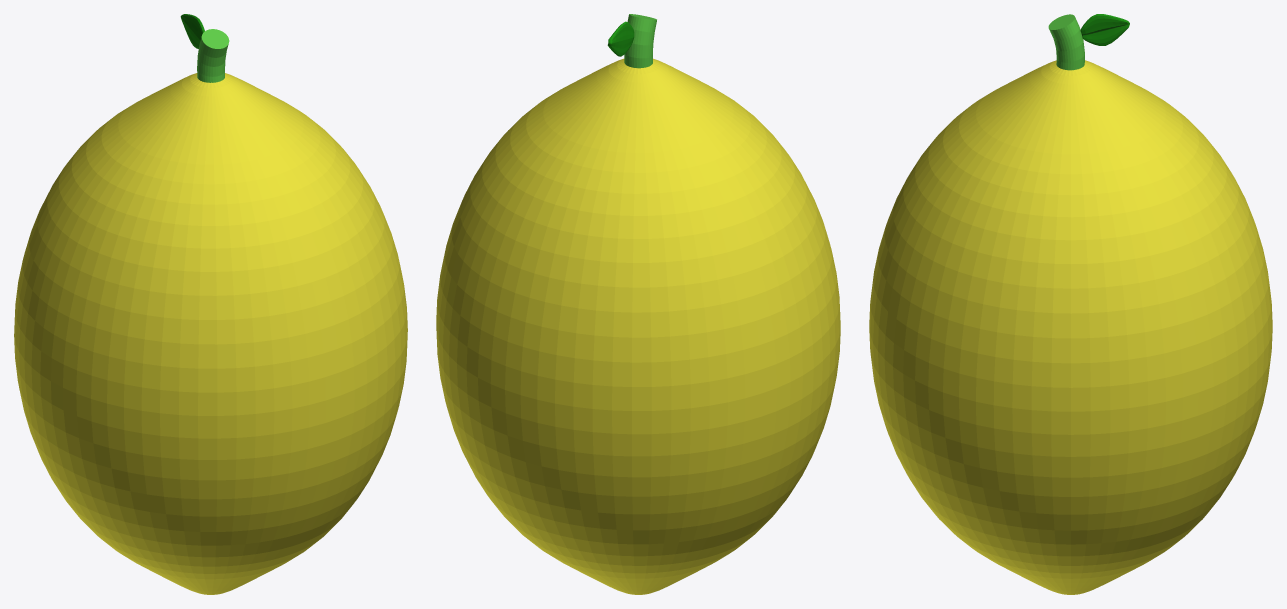
The model's file is Lemon_subdivided.fbx.
The picture shows the model from 3 angles, left to right: view 1: azimuth 30°, elevation 25°; view 2: azimuth 150°, elevation 25°; view 3: azimuth 270°, elevation 25°; orthographic projection. The views are drawn at different scales.
Visible parts, largest first — view 1: Sphere, Cylinder, Cube.001; view 2: Sphere, Cylinder, Cube.001; view 3: Sphere, Cylinder, Cube.001.
Boxes of the visible parts, x1=… form: Sphere: x1=14, y1=73, x2=407, y2=594; Cylinder: x1=197, y1=29, x2=229, y2=82; Cube.001: x1=180, y1=14, x2=204, y2=48; Sphere: x1=436, y1=58, x2=840, y2=594; Cylinder: x1=624, y1=14, x2=656, y2=68; Cube.001: x1=607, y1=21, x2=634, y2=56; Sphere: x1=869, y1=60, x2=1272, y2=594; Cylinder: x1=1048, y1=14, x2=1084, y2=70; Cube.001: x1=1080, y1=14, x2=1129, y2=45.
Bounding box in the file's own units: 196 × 311 × 196.
Materials: 3 (1 with a texture image).
